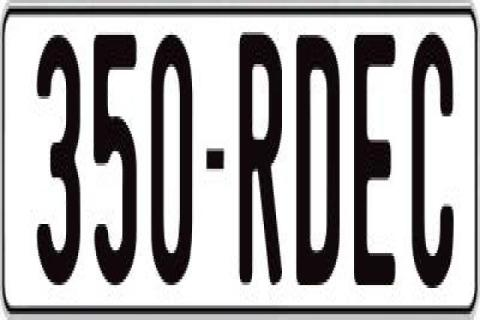0: (90, 27, 138, 286), (148, 26, 196, 282), (36, 29, 82, 291)
C: (408, 35, 454, 297)
D: (297, 35, 341, 294)
E: (350, 26, 398, 276)
R: (238, 24, 286, 294)
